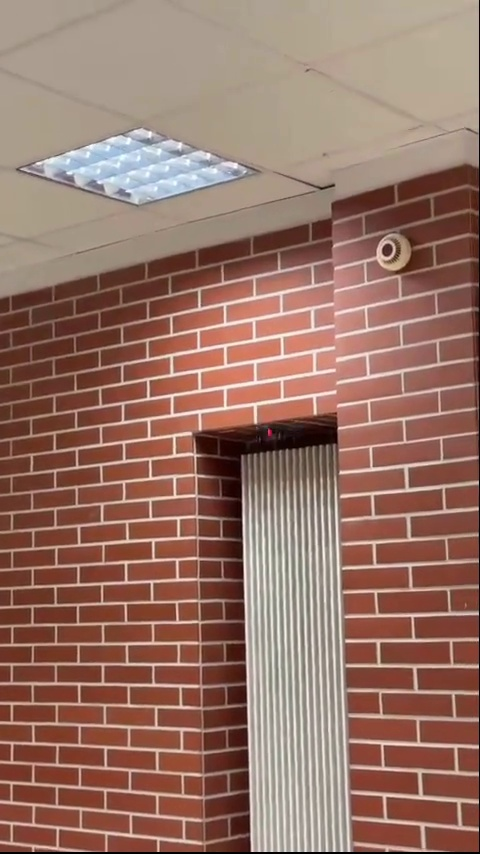drone: (246, 422, 293, 451)
